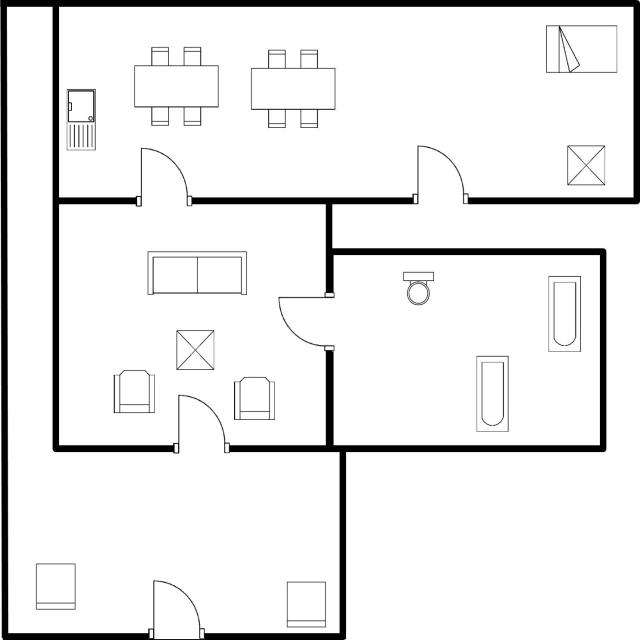armchair: (229, 370, 277, 426), (108, 367, 160, 418)
bed: (542, 20, 620, 79)
coffee_table: (171, 325, 220, 374), (562, 142, 608, 188)
dining_table: (128, 42, 225, 133), (247, 46, 340, 132)
large_sink: (398, 267, 437, 309)
large_sofa: (143, 247, 250, 301)
sink: (62, 84, 101, 155)
small_sofa: (31, 558, 80, 614), (283, 578, 329, 631)
tub: (469, 350, 514, 436), (542, 271, 585, 357)
